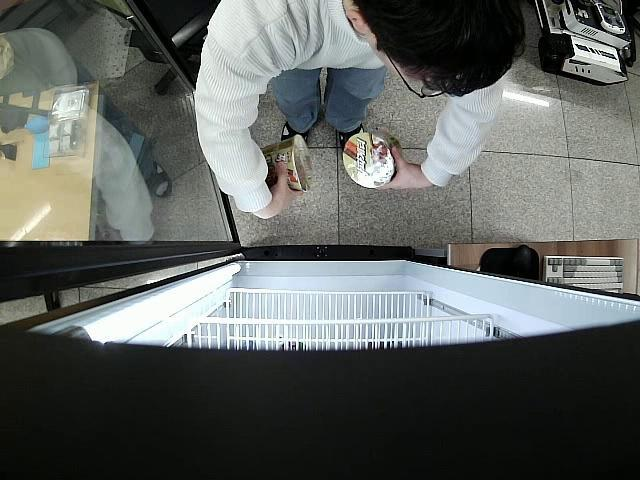03_chapagetti_L: (342, 130, 398, 188), (262, 134, 315, 190)
